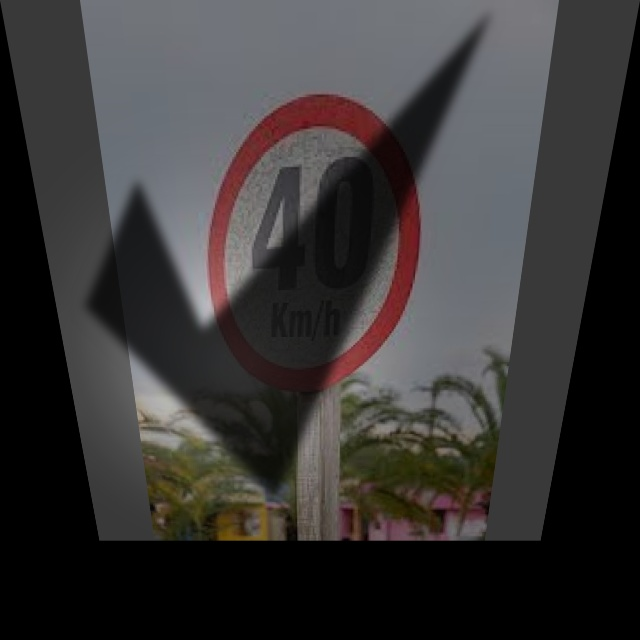Speed_Limit_40: (199, 93, 430, 381)
